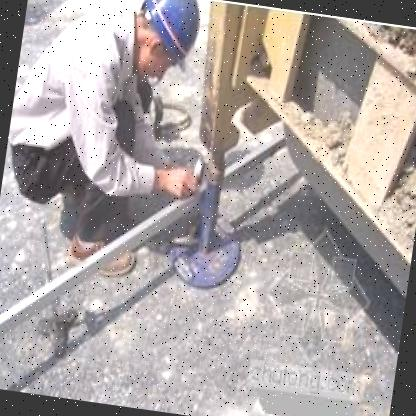capacete: (126, 0, 204, 92)
sem_colete_refletivo: (0, 0, 145, 217)
